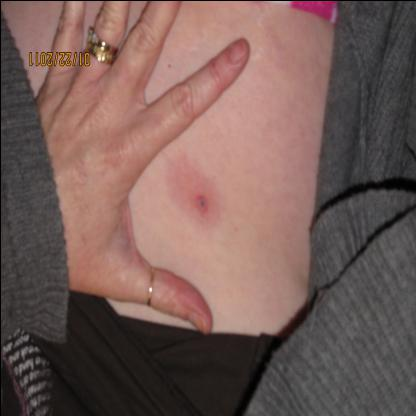Tick: (162, 148, 228, 233)
